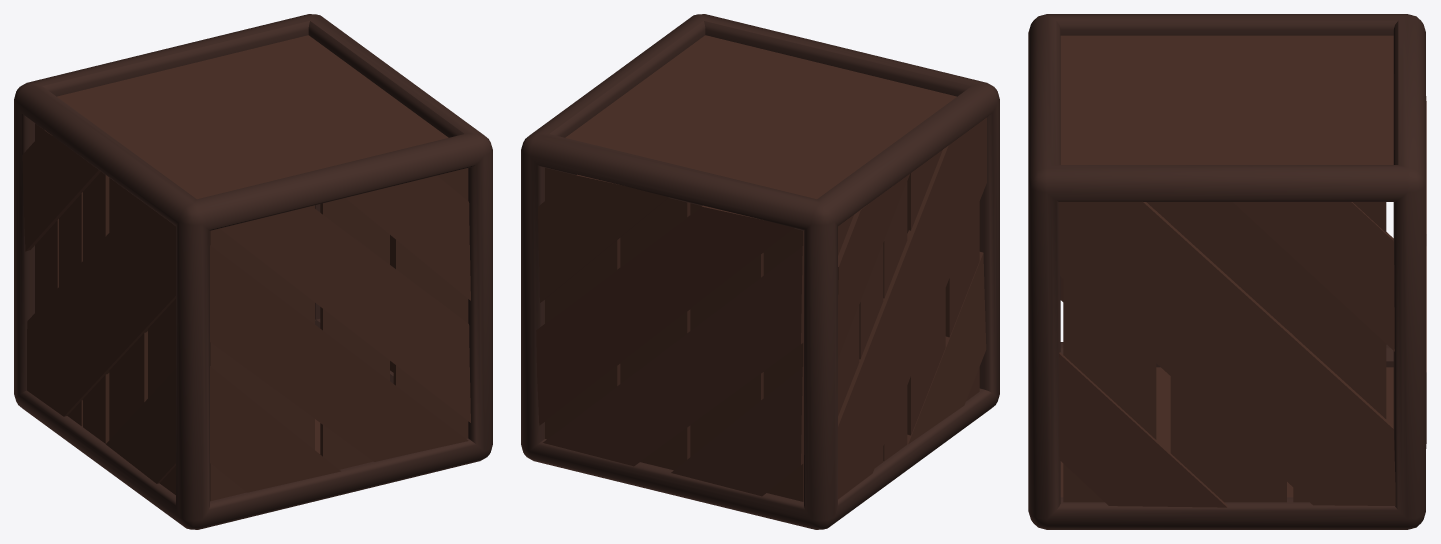
The model's file is crate.fbx.
3 renders of one model, left to right at view 1: azimuth 30°, elevation 25°; view 2: azimuth 150°, elevation 25°; view 3: azimuth 270°, elevation 25°, orthographic. The views are drawn at different scales.
Visible parts, largest first — view 1: Cube; view 2: Cube; view 3: Cube.
Boxes of the visible parts, <box> form: Cube: <box>14,14,492,529</box>; Cube: <box>521,14,999,529</box>; Cube: <box>1028,14,1426,529</box>.
Bounding box in the file's own units: 200 × 200 × 200.
